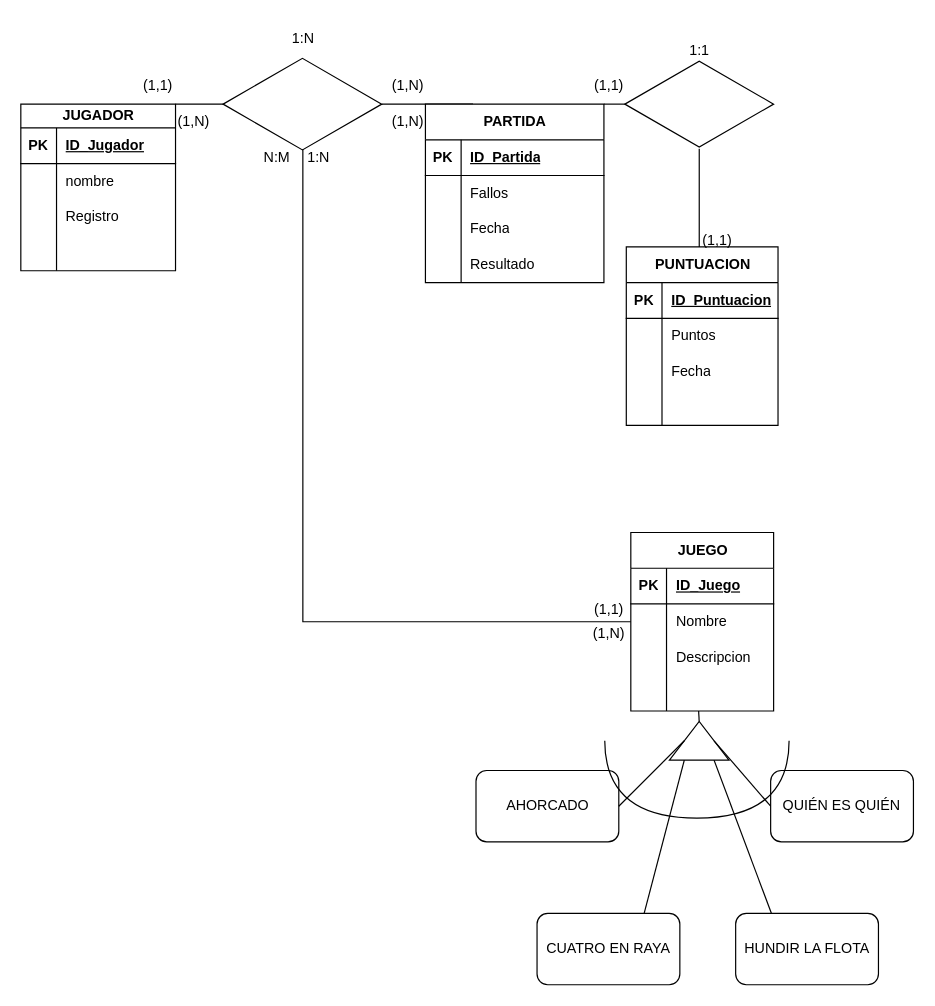
Image size: 935x1006. Some labels were removed from this diagram. The shapes that lost their labels are listed below. From the top down, each one's centre as x and y in pixels, then its label:
the point at 302,103: JUEGA
the point at 699,103: TIENE
